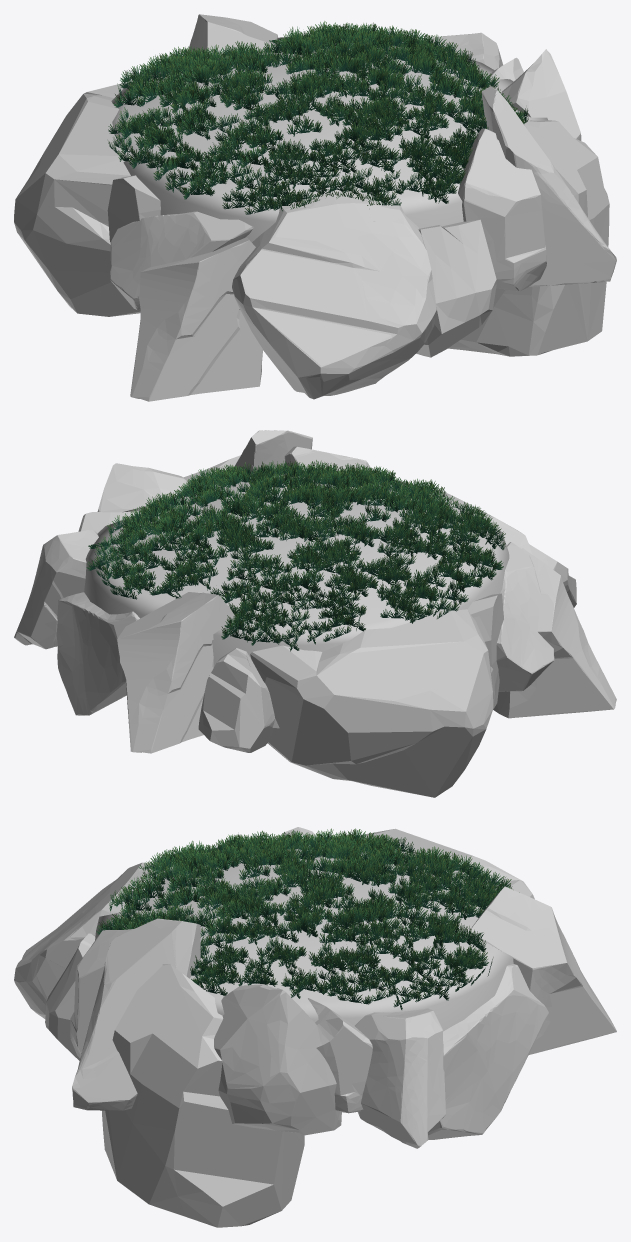
Rendered from sm_uv_05x_terrace1.fbx.
3 renders of one model, top to bottom at view 1: azimuth 30°, elevation 25°; view 2: azimuth 150°, elevation 25°; view 3: azimuth 270°, elevation 25°, orthographic. The views are drawn at different scales.
Parts seen in each view (by area): view 1: sm_grass_terrace05x1:ZBrushPolyMesh3D; view 2: sm_grass_terrace05x1:ZBrushPolyMesh3D; view 3: sm_grass_terrace05x1:ZBrushPolyMesh3D.
Part boxes in pixels (x1,y1,x2,y2): sm_grass_terrace05x1:ZBrushPolyMesh3D: [14, 14, 616, 401]; sm_grass_terrace05x1:ZBrushPolyMesh3D: [14, 430, 616, 797]; sm_grass_terrace05x1:ZBrushPolyMesh3D: [14, 827, 616, 1227].
Size of the model in its own units: 3.07 by 1.6 by 3.24.
